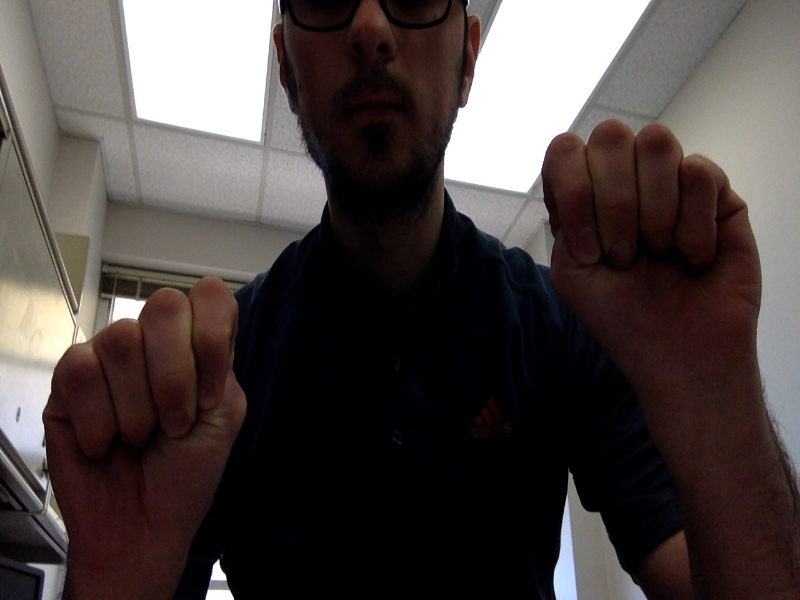0-hand: (44, 277, 248, 563), (543, 122, 763, 380)
